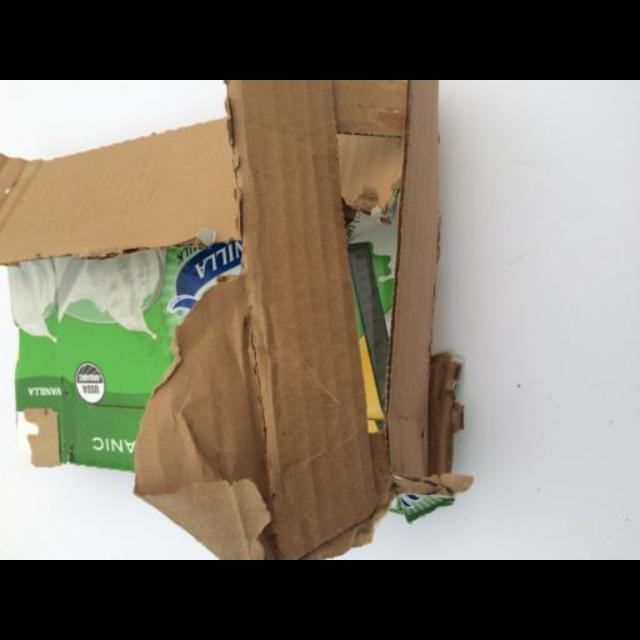papelão: (0, 80, 474, 560)
